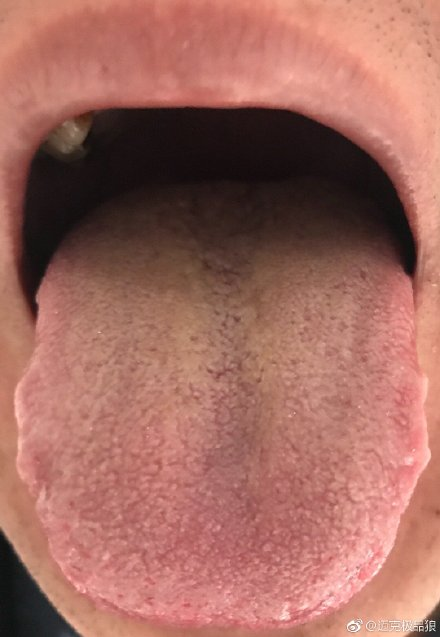huangtaishe: (14, 181, 431, 628)
